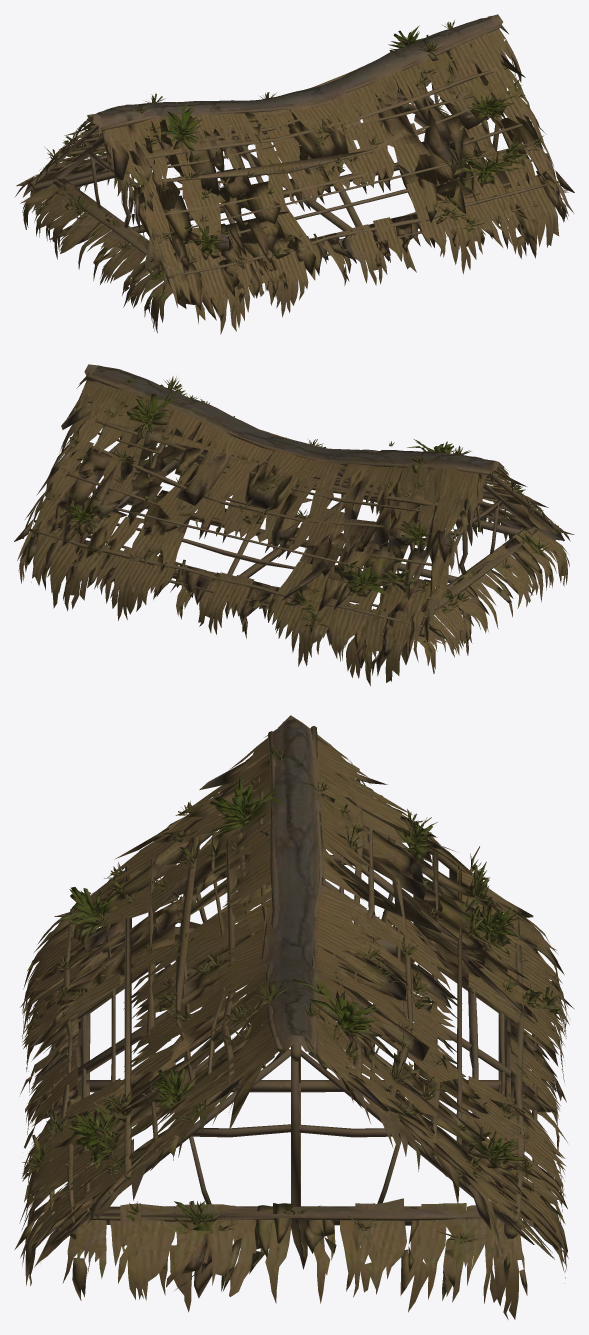
File: cabin_roof.glb
3 renders of one model, top to bottom at view 1: azimuth 30°, elevation 25°; view 2: azimuth 150°, elevation 25°; view 3: azimuth 270°, elevation 25°, orthographic. The views are drawn at different scales.
Size of the model in its own units: 6.8 by 2.66 by 4.7.
Materials: 1 (1 with a texture image).
